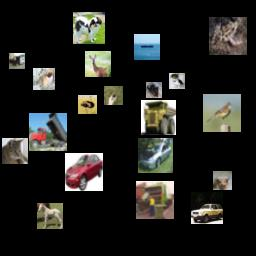automobile: (65, 153, 103, 191), (138, 138, 173, 173), (191, 192, 223, 224)
bird: (203, 94, 241, 132), (213, 171, 232, 190), (78, 95, 97, 114)
cat: (2, 138, 28, 164), (104, 86, 123, 105), (146, 82, 162, 98)
deer: (85, 51, 111, 77)
dog: (73, 12, 105, 44), (33, 68, 55, 90), (169, 73, 185, 89)
frog: (209, 17, 247, 55)
ship: (134, 34, 160, 60)
truck: (29, 113, 67, 151), (136, 181, 174, 219), (141, 100, 176, 135), (9, 53, 25, 69)
